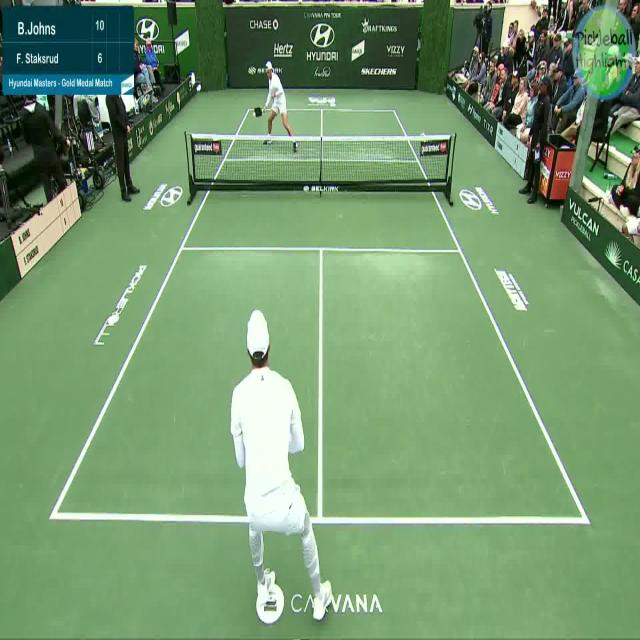ball: (251, 108, 257, 119)
